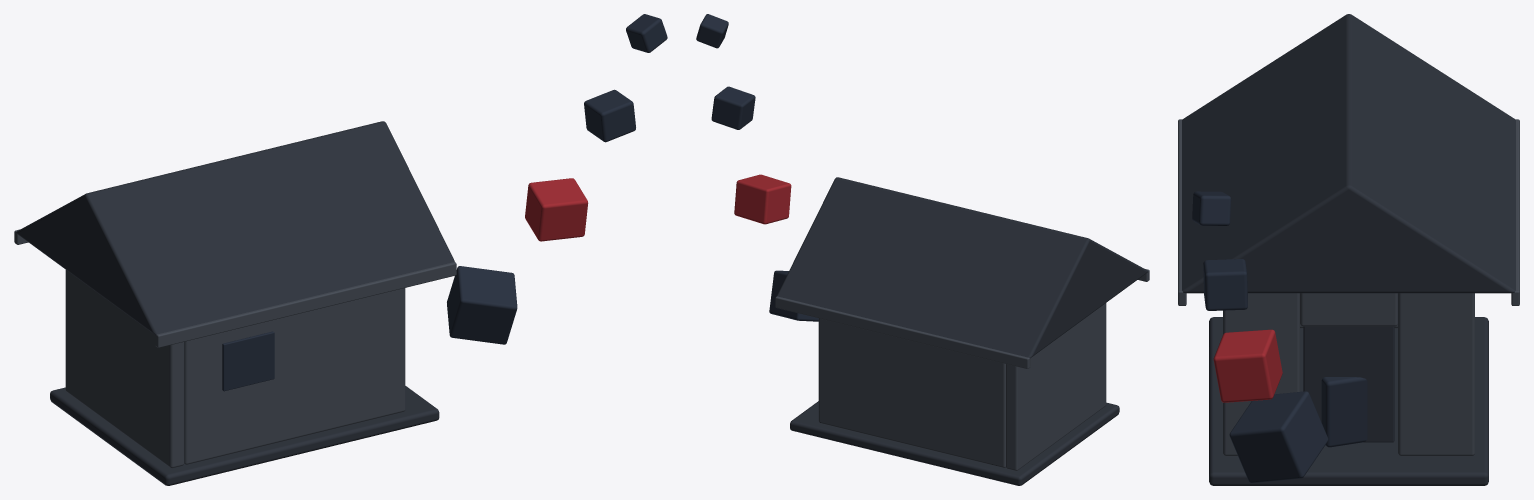
Rendered from house.glb.
3 views of the same model, side by side, from view 1: azimuth 30°, elevation 25°; view 2: azimuth 150°, elevation 25°; view 3: azimuth 270°, elevation 25° (orthographic). The views are drawn at different scales.
Visible parts, largest first — view 1: roof, wallF, wallL, base, lift0, fasciaF, lift1, pier0, winF, lift2, lift3; view 2: roof, wallB, wallL, base, fasciaB, lift1, pier1, lift2, lift3, lift0; view 3: roof, pier1, base, reveal, lift0, pier0, lift1, lintel, inside, lift2, lift3, fasciaB (+1 smaller).
Part boxes in pixels (x1,y1,x2,y2): roof: (16, 121, 454, 334); wallF: (184, 293, 388, 464); wallL: (65, 270, 184, 468); base: (50, 386, 439, 485); lift0: (447, 266, 517, 344); fasciaF: (155, 262, 456, 347); lift1: (525, 178, 588, 241); pier0: (384, 288, 405, 415); winF: (222, 331, 274, 391); lift2: (584, 89, 635, 142); lift3: (626, 14, 667, 52); roof: (777, 177, 1148, 358); wallB: (832, 321, 1005, 467); wallL: (1006, 303, 1106, 470); base: (790, 401, 1119, 485); fasciaB: (775, 296, 1030, 368); lift1: (734, 174, 791, 224); pier1: (818, 318, 836, 426); lift2: (711, 86, 755, 129); lift3: (696, 14, 728, 48); lift0: (769, 270, 818, 321); roof: (1182, 14, 1515, 293); pier1: (1398, 293, 1474, 456); base: (1209, 317, 1488, 485); reveal: (1303, 326, 1394, 442); lift0: (1229, 391, 1328, 483); pier0: (1223, 293, 1299, 456); lift1: (1213, 329, 1282, 402); lintel: (1300, 293, 1397, 326); inside: (1321, 377, 1367, 447); lift2: (1203, 259, 1247, 310); lift3: (1192, 191, 1231, 225); fasciaB: (1511, 119, 1519, 305).
Size of the model in its own units: 5.08 by 3.28 by 2.44.
